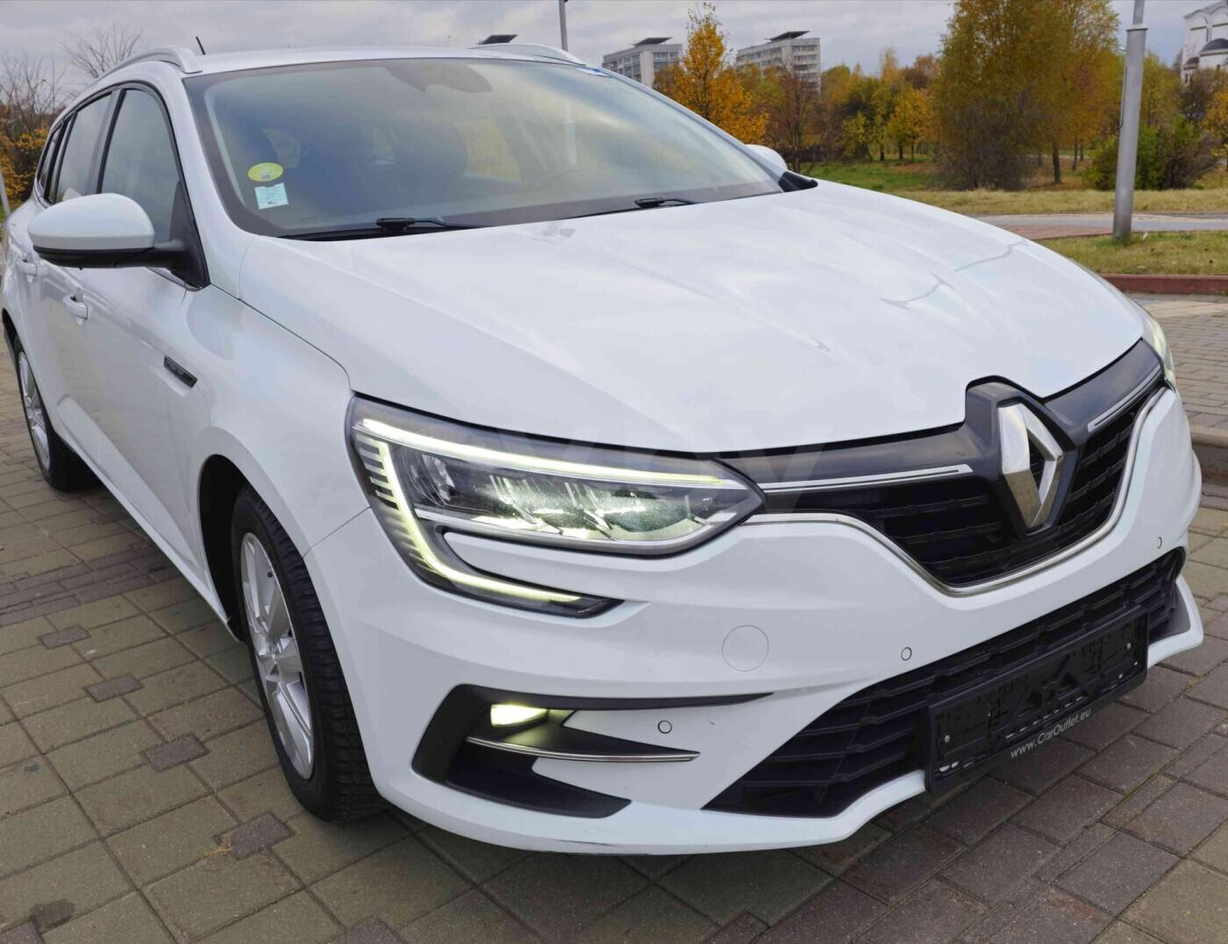Megane_2020: (5, 41, 1207, 866)
